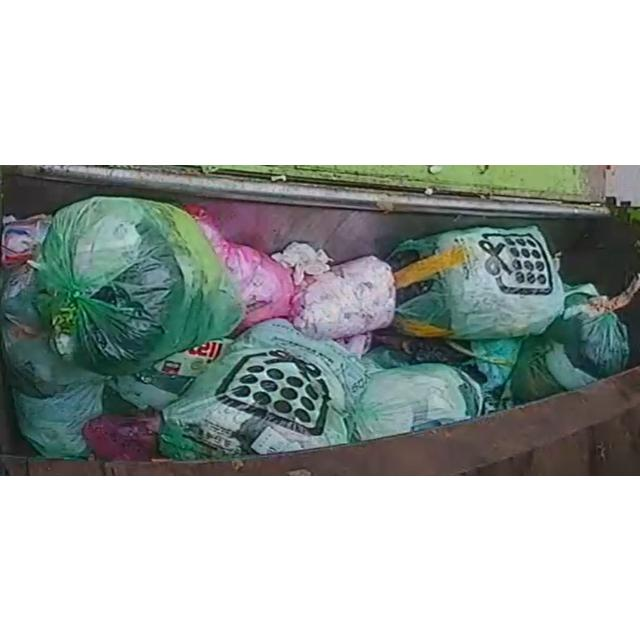general_trashbag: (38, 195, 242, 373), (161, 319, 365, 457), (0, 264, 105, 457), (389, 225, 564, 338), (511, 283, 629, 403), (355, 363, 482, 439)
other_trashbag: (185, 204, 295, 334), (292, 255, 396, 338)
